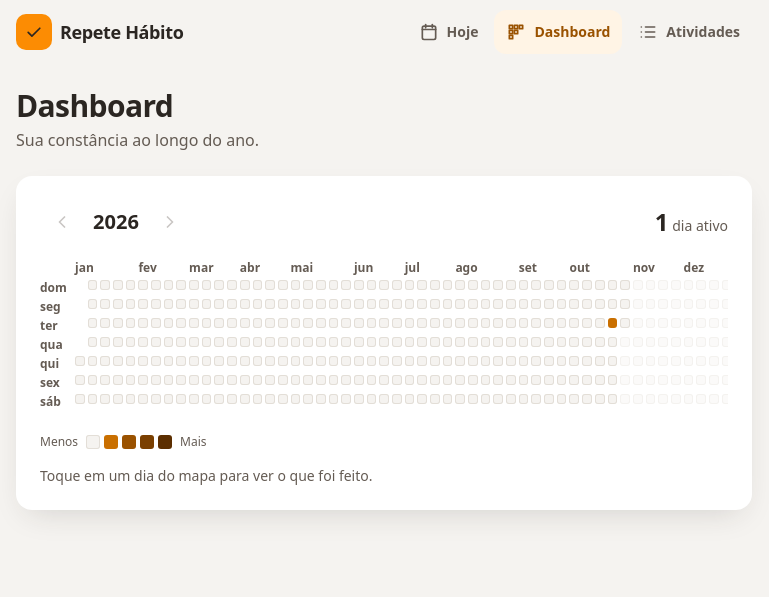
it: DashboardView › mostra "Nenhuma atividade registrada" no detalhe de um dia vazio (regressão BUG-03)
What coordinates should you click on to do the following:
click the button named "21 de outubro"
I would click on:
 (612, 342)
Its box is [608, 337, 617, 347].
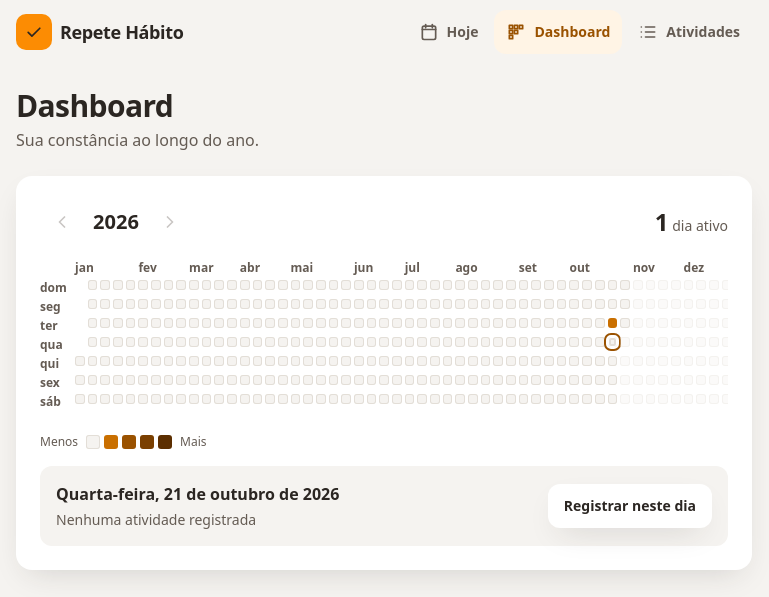
expect the element named "Detalhes do dia" shows "Nenhuma atividade registrada": met, box [56, 510, 256, 529]
